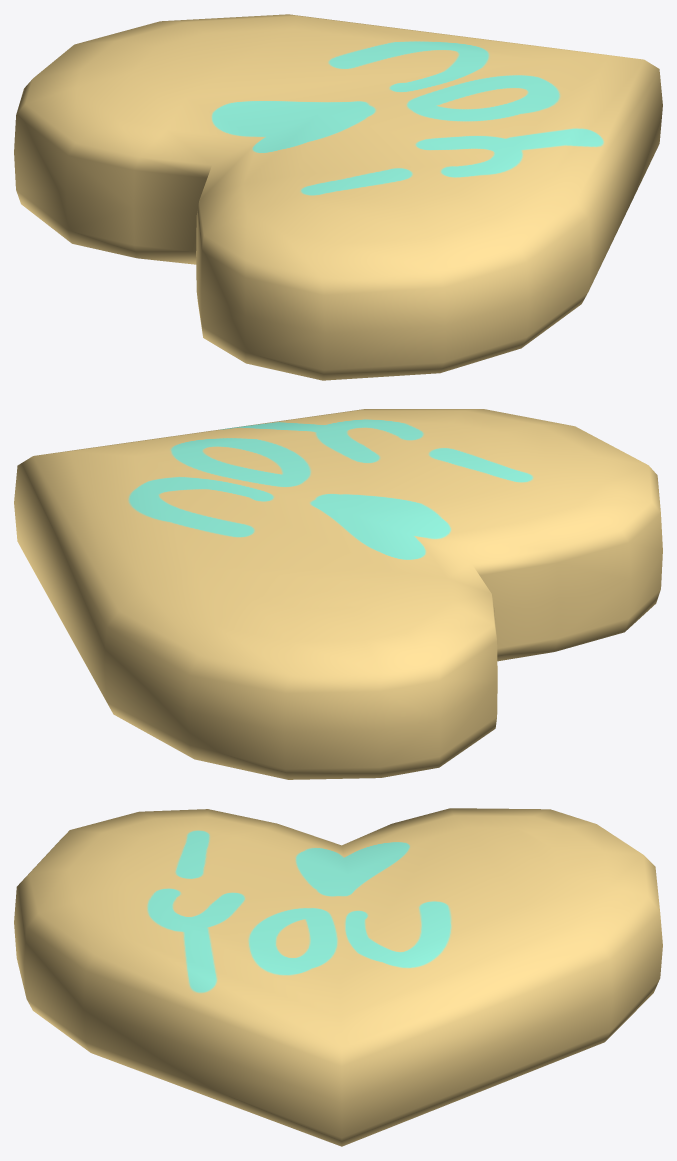
The model's file is candyheart1.fbx.
3 renders of one model, top to bottom at view 1: azimuth 30°, elevation 25°; view 2: azimuth 150°, elevation 25°; view 3: azimuth 270°, elevation 25°, orthographic. The views are drawn at different scales.
Visible parts, largest first — view 1: candyheart1; view 2: candyheart1; view 3: candyheart1.
Boxes of the visible parts, x1,y1,x2,y2 form: candyheart1: (14,14,662,380); candyheart1: (14,409,662,779); candyheart1: (14,808,662,1146).
Bounding box in the file's own units: 148 × 38.79 × 162.
